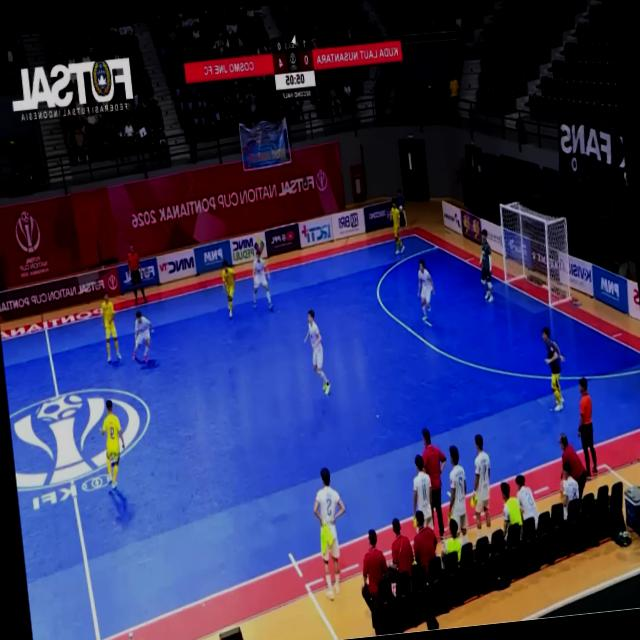keeper: (541, 327, 564, 411), (478, 230, 492, 302)
official: (421, 429, 445, 538), (361, 530, 386, 633), (558, 434, 586, 498), (126, 245, 146, 304)
players: (313, 468, 344, 600), (303, 311, 329, 394), (100, 400, 123, 488), (448, 446, 467, 544), (473, 435, 490, 537), (412, 455, 432, 530), (101, 293, 120, 362), (515, 475, 538, 528), (252, 251, 272, 310), (132, 312, 152, 363), (417, 260, 433, 322), (221, 260, 234, 319), (390, 198, 403, 254)
referee: (578, 378, 596, 477), (126, 245, 146, 304)
